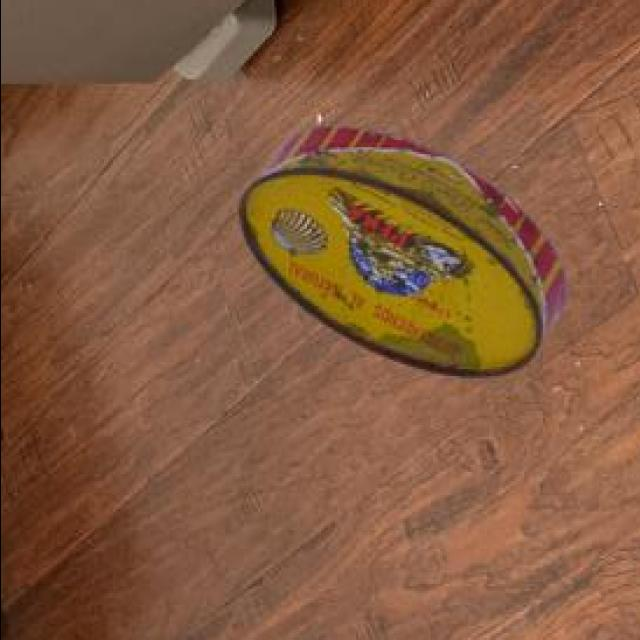logam: (235, 130, 562, 382)
